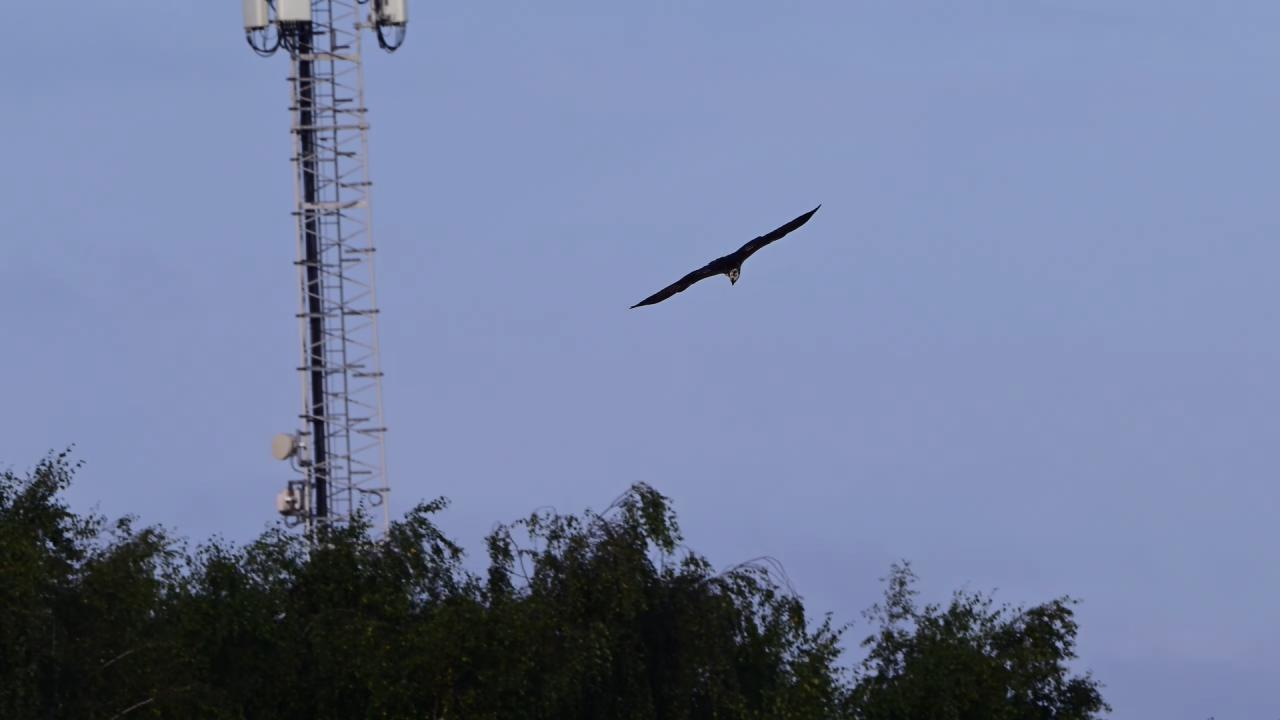Bird: (620, 197, 831, 316)
